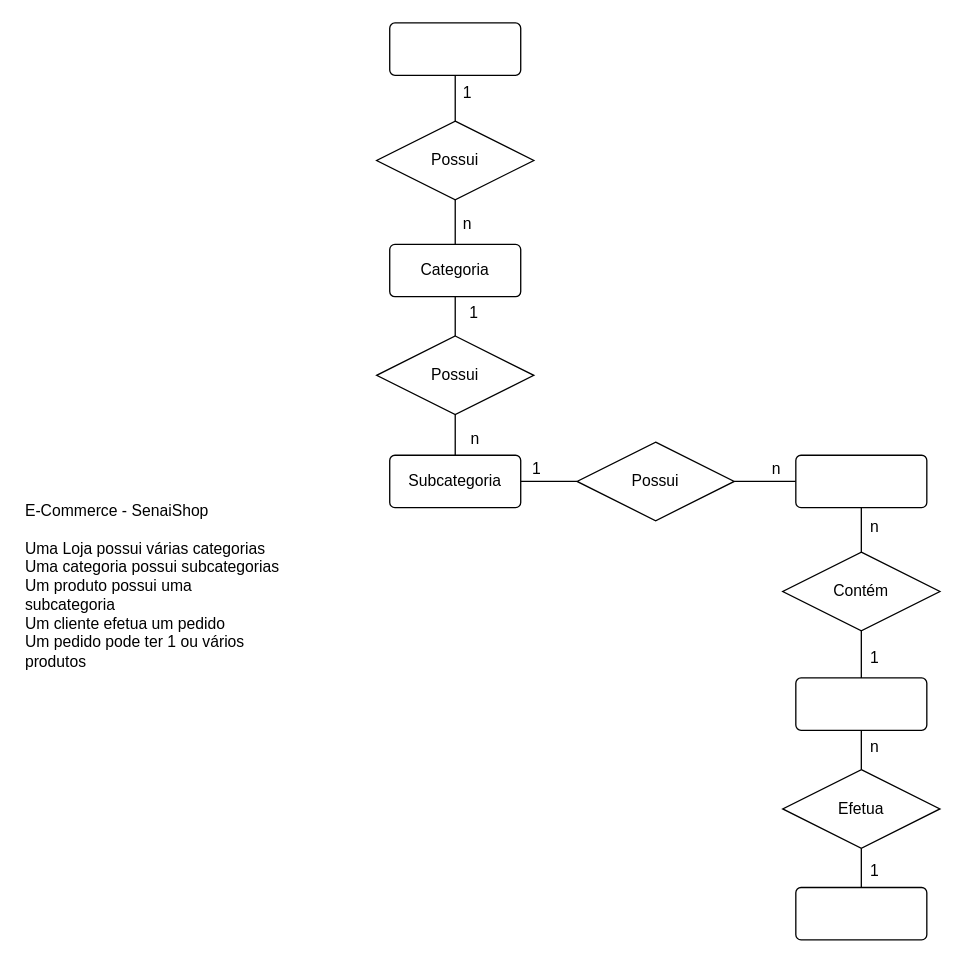
Image size: 963x963. Some labels were removed from this diagram. Each missing label, with the centre of its shape:
"Cliente" goes at (861,913).
"Loja" goes at (454,48).
"Pedido" goes at (861,703).
"Produto" goes at (861,481).
